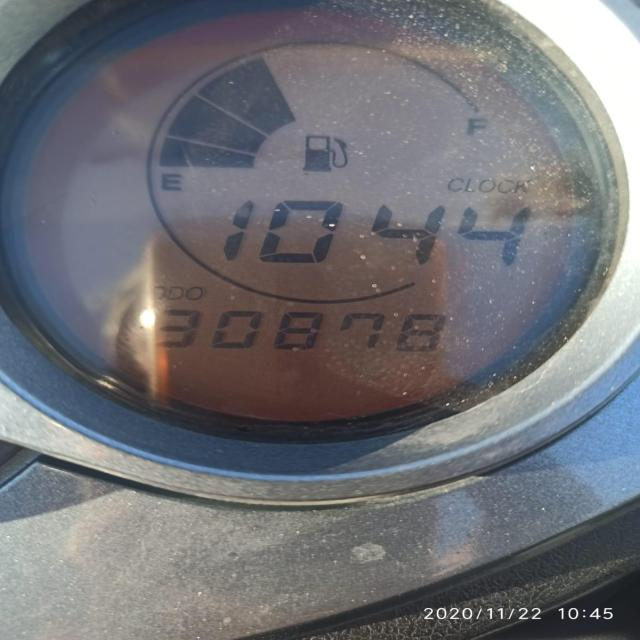odometer: (2, 6, 585, 429)
